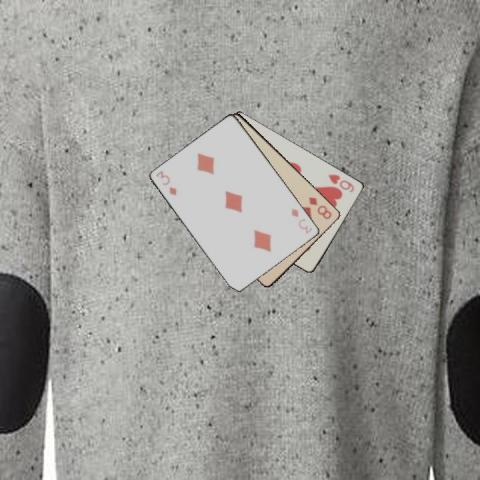3d: (153, 168, 178, 198), (289, 206, 314, 235)
6h: (325, 171, 356, 194)
8d: (306, 194, 333, 221)
